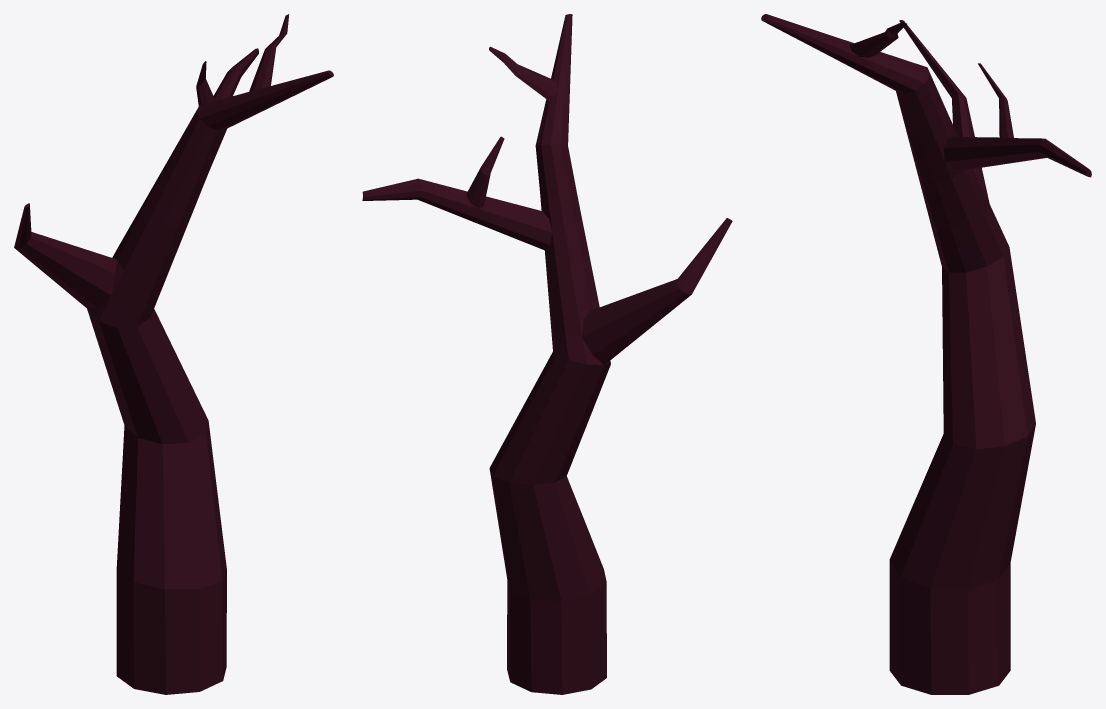
File: Tree.fbx
The picture shows the model from 3 angles, left to right: view 1: azimuth 30°, elevation 25°; view 2: azimuth 150°, elevation 25°; view 3: azimuth 270°, elevation 25°; orthographic projection. The views are drawn at different scales.
Parts seen in each view (by area): view 1: tree; view 2: tree; view 3: tree.
Boxes of the visible parts, bbox=[...] form: tree: bbox=[14, 14, 333, 694]; tree: bbox=[362, 14, 732, 694]; tree: bbox=[761, 14, 1091, 694].
Size of the model in its own units: 473 by 917 by 393.
